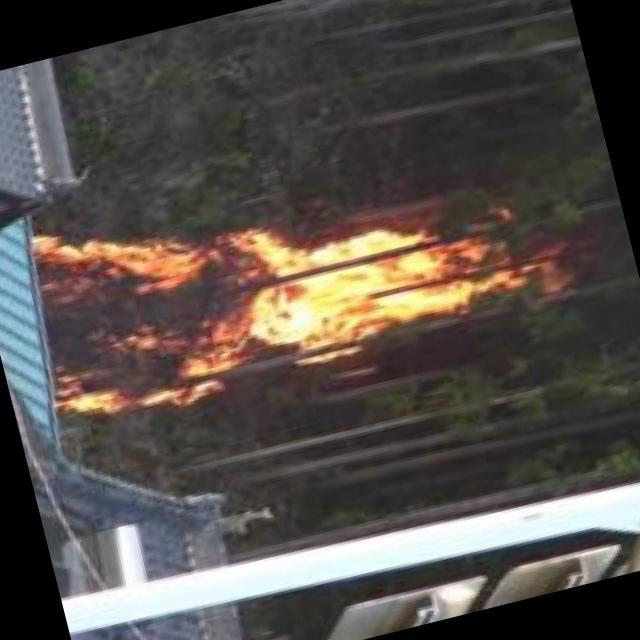Fire: (14, 130, 543, 435)
